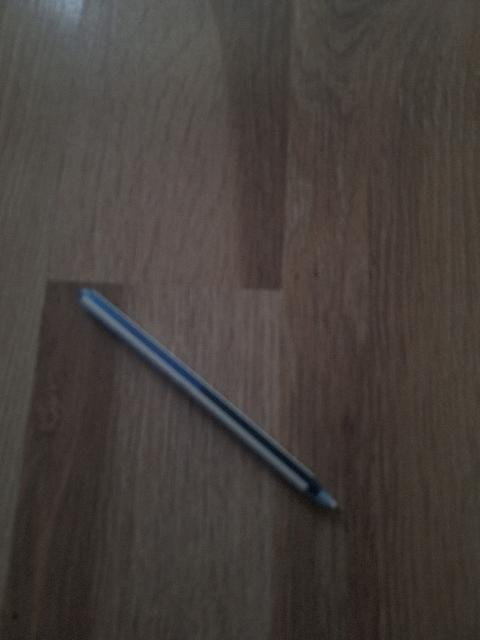writing_tool: (77, 289, 347, 521)
